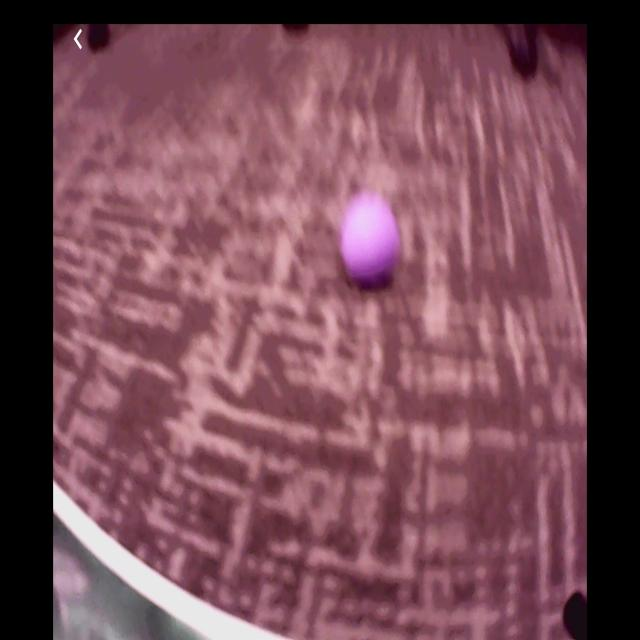ball: (343, 195, 402, 286)
